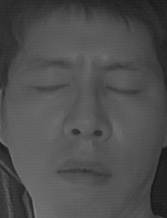blink: (24, 75, 71, 100), (103, 75, 145, 102)
mouth: (52, 150, 119, 191)
